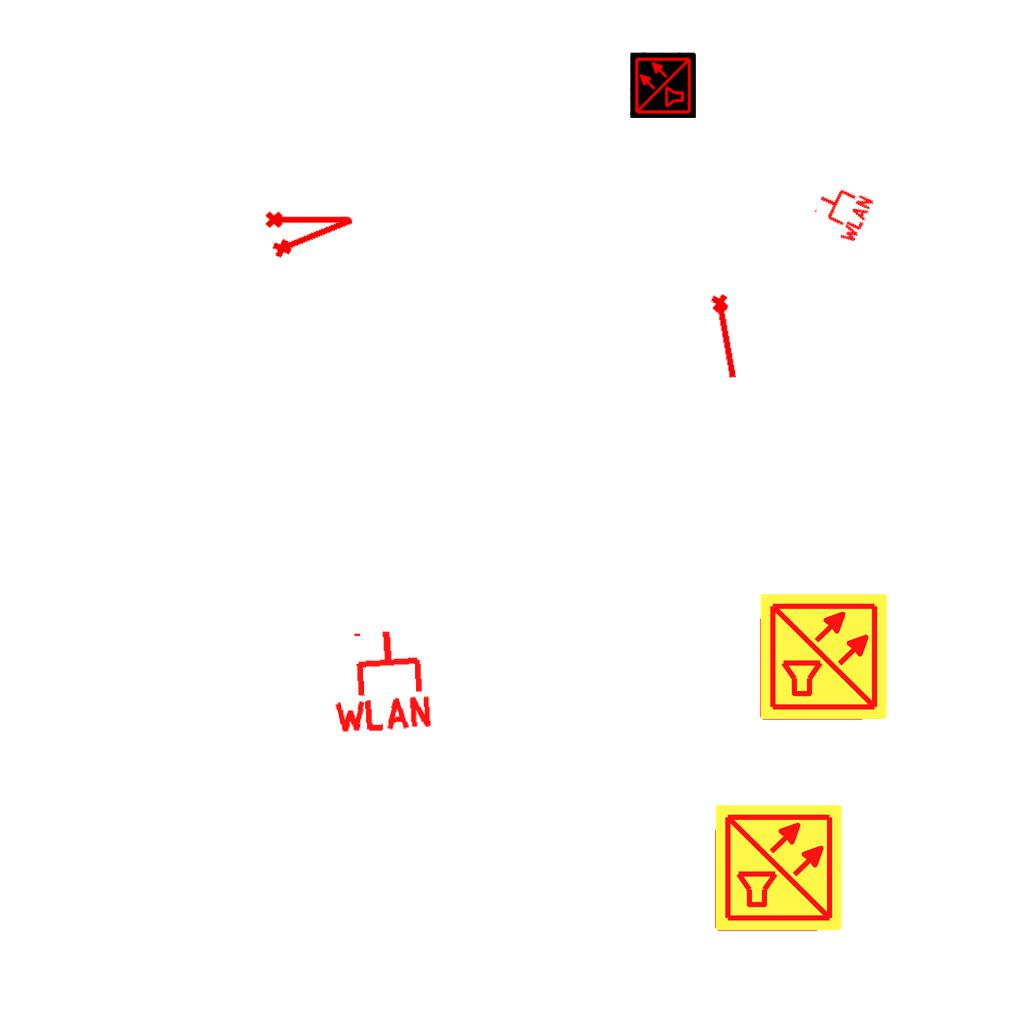ASR_Ansaugoeffnung: (267, 207, 359, 262), (708, 291, 746, 382), (264, 207, 352, 230)
OKW_Multisensormelder_(Kombination_optischer_Rauch-Kahlenmonoxid_Waerme-Melder): (713, 802, 845, 934), (758, 591, 890, 723), (630, 52, 696, 118)
WLAN: (324, 624, 437, 736), (806, 177, 876, 247)
